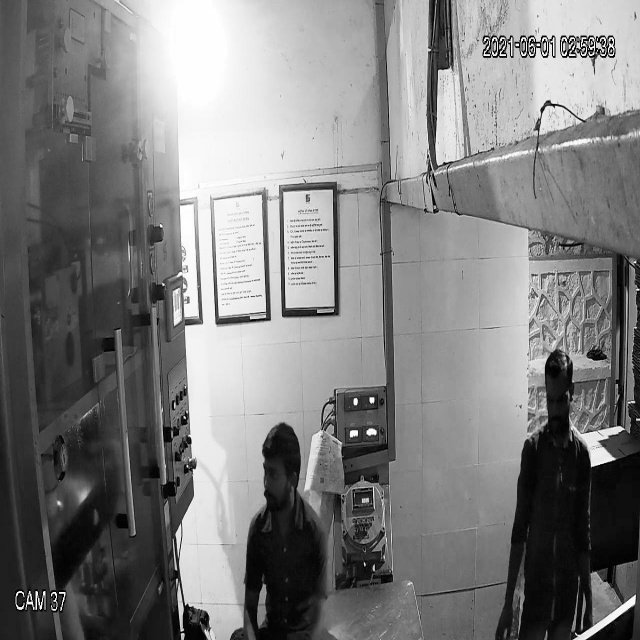Sin_gafas: (540, 382, 579, 415), (257, 460, 297, 492)
